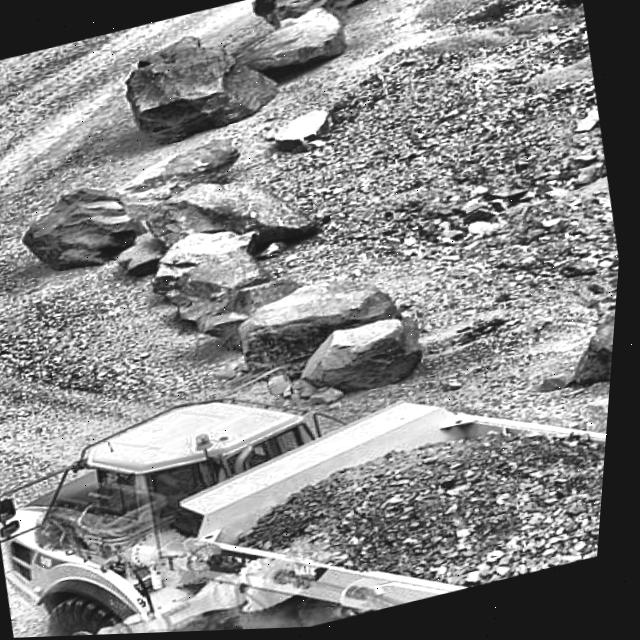dump_truck: (0, 280, 623, 640)
